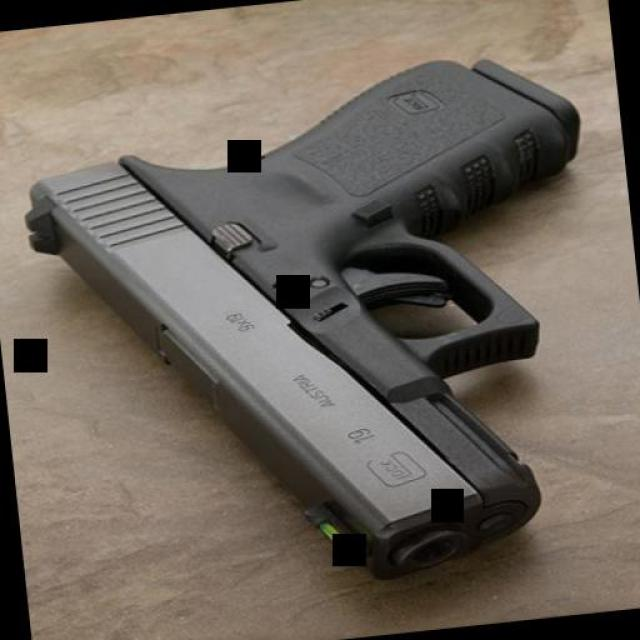gun: (8, 44, 632, 610)
